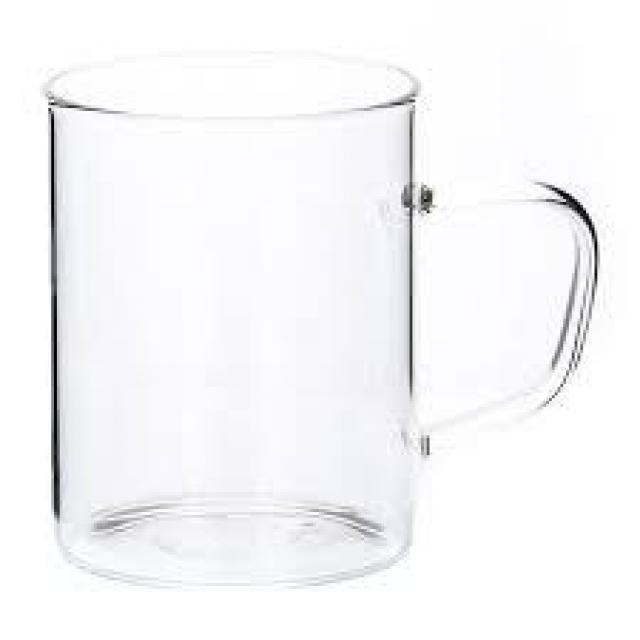glass: (38, 51, 604, 589)
